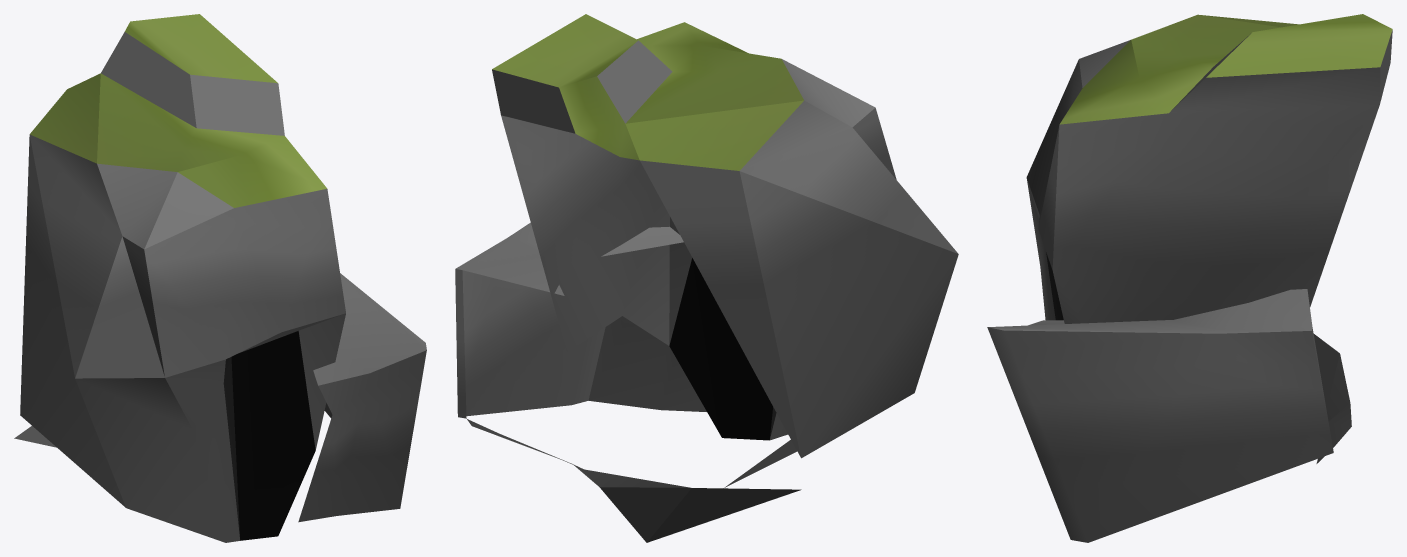
Rendered from CavernaIlhaCaveira.glb.
3 renders of one model, left to right at view 1: azimuth 30°, elevation 25°; view 2: azimuth 150°, elevation 25°; view 3: azimuth 270°, elevation 25°, orthographic. The views are drawn at different scales.
Parts seen in each view (by area): view 1: CavernaIlhaCaveira; view 2: CavernaIlhaCaveira; view 3: CavernaIlhaCaveira.
Boxes of the visible parts, box(x1,y1,x2,y2) form: CavernaIlhaCaveira: box(14, 14, 426, 542); CavernaIlhaCaveira: box(455, 14, 958, 542); CavernaIlhaCaveira: box(987, 14, 1392, 542).
Bounding box in the file's own units: 9.75 × 11.72 × 9.54.
Materials: 1 (1 with a texture image).
